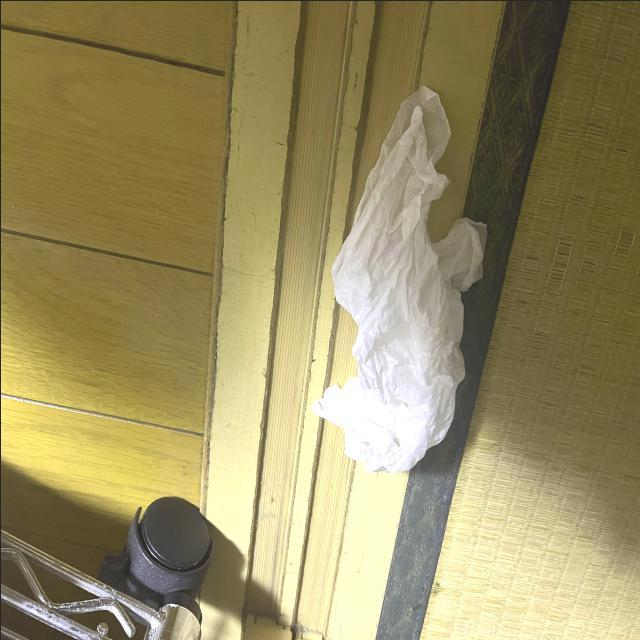Paper: (316, 86, 501, 492)
